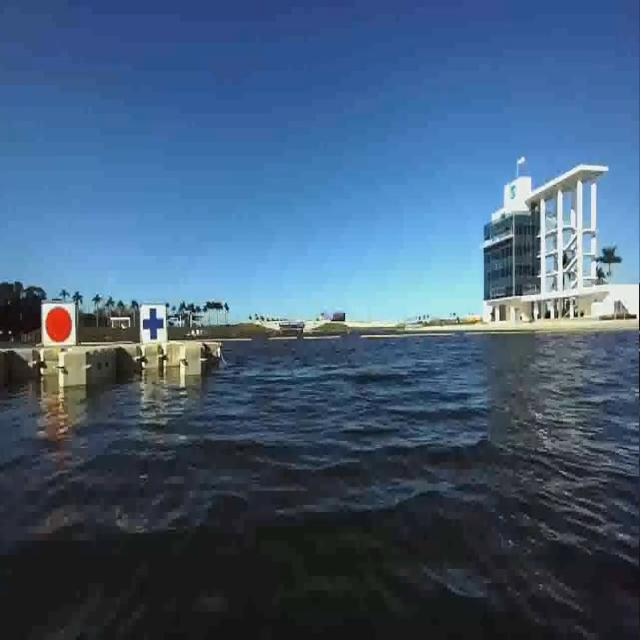blue-cross: (138, 299, 168, 352)
red-dot: (38, 296, 78, 350)
